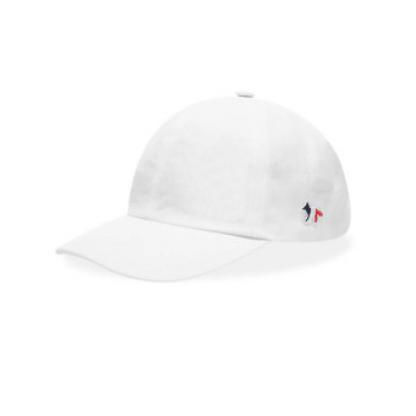cap: (49, 82, 361, 289)
